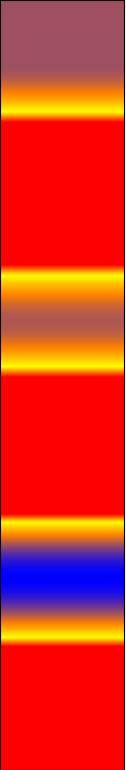Thermal Runaway: (8, 353, 118, 534), (12, 96, 110, 290), (4, 629, 119, 764)
critical: (6, 5, 115, 89), (4, 300, 120, 341), (8, 611, 118, 624), (4, 539, 118, 546)
safe: (9, 562, 115, 600)
